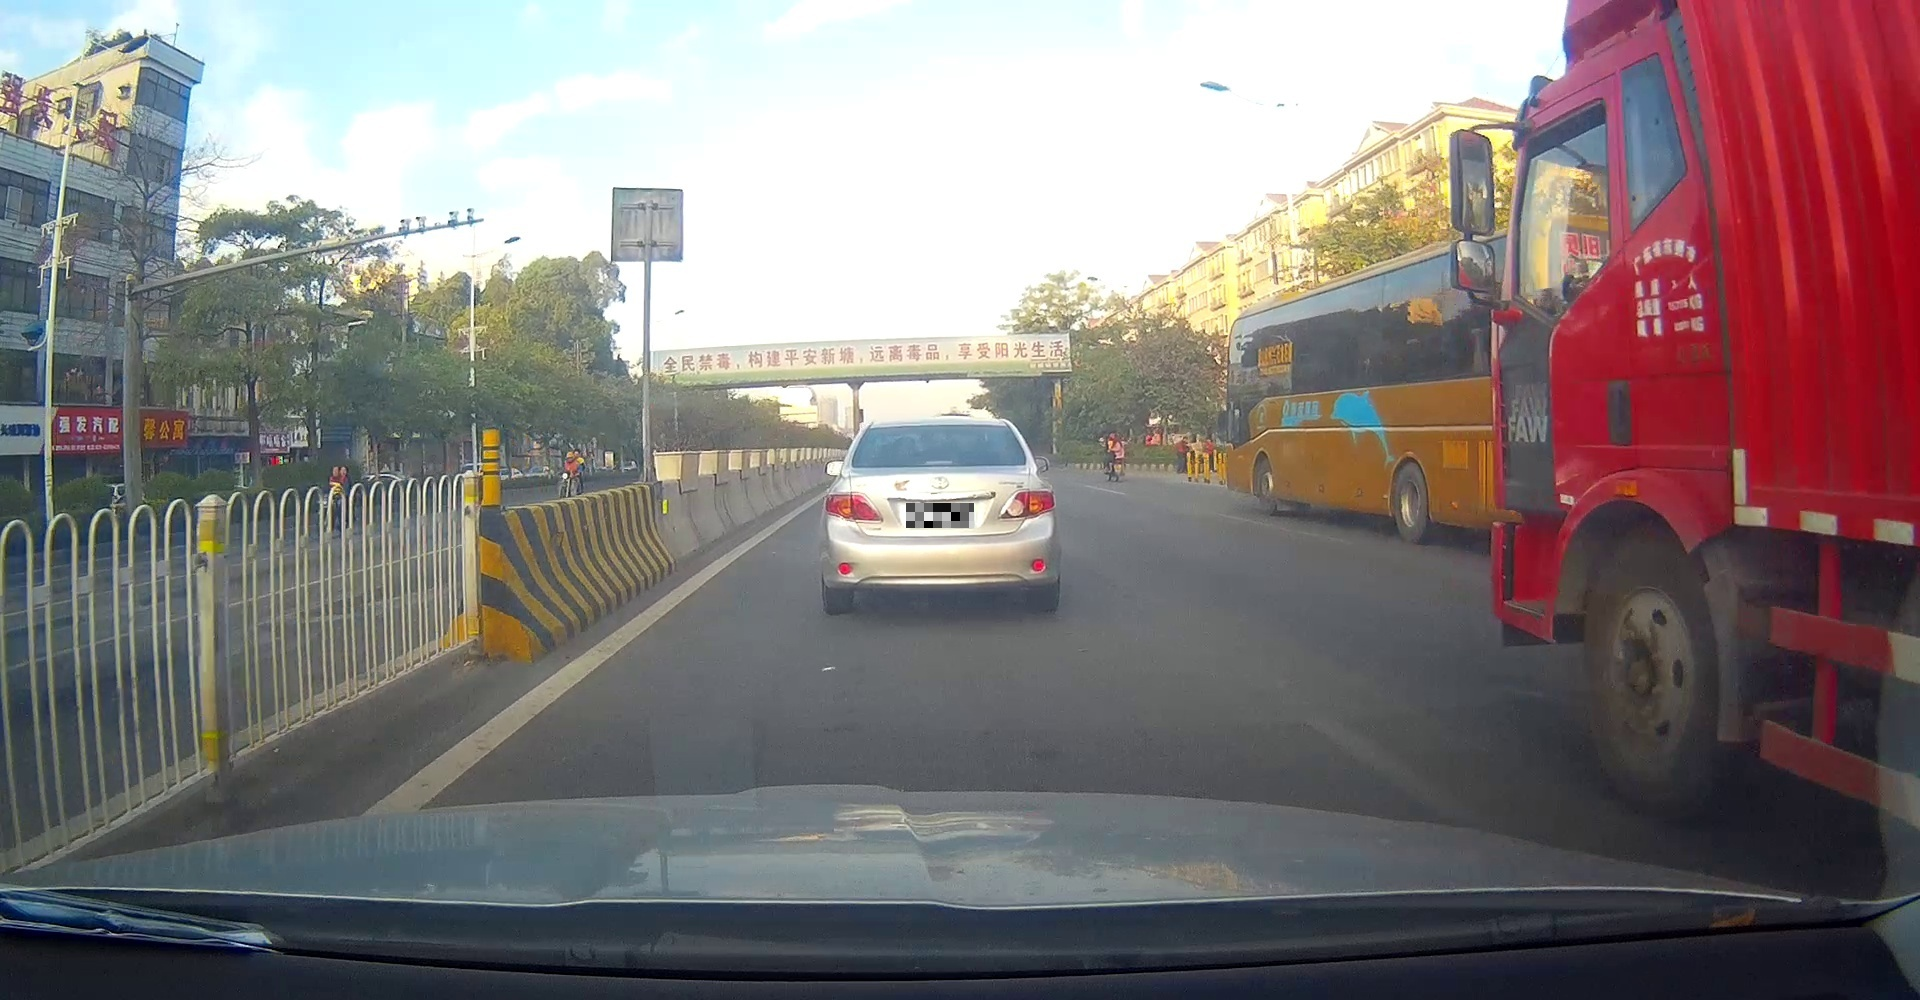L_light: (825, 492, 884, 523)
R_light: (997, 489, 1057, 520)
T_light: (923, 425, 950, 434)
day-no: (822, 418, 1059, 614)
plate_1: (905, 503, 974, 528)
